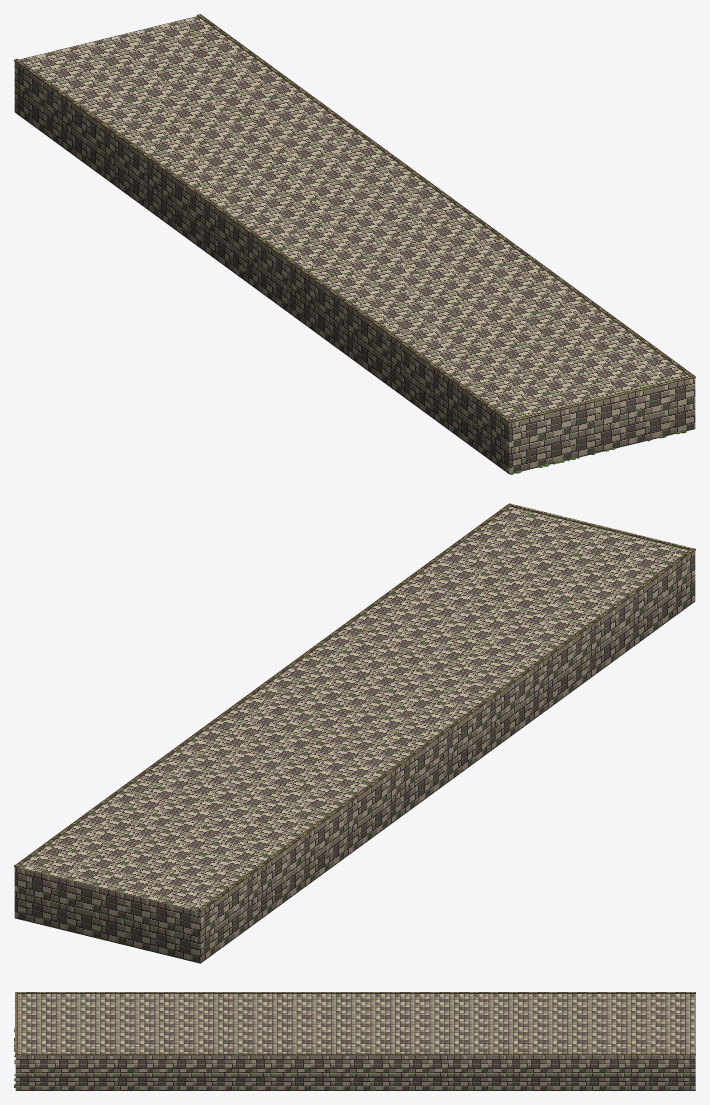
File: scene_wall_w.glb
3 views of the same model, one above another, from view 1: azimuth 30°, elevation 25°; view 2: azimuth 150°, elevation 25°; view 3: azimuth 270°, elevation 25° (orthographic). The views are drawn at different scales.
Visible parts, largest first — view 1: scene_wall_w; view 2: scene_wall_w; view 3: scene_wall_w.
Part boxes in pixels (box(x1,y1,x2,y2)): scene_wall_w: box(14, 14, 695, 474); scene_wall_w: box(14, 503, 695, 963); scene_wall_w: box(14, 992, 695, 1090).
Bounding box in the file's own units: 18.1 × 4.97 × 83.24.
2 materials, 1 textured.
